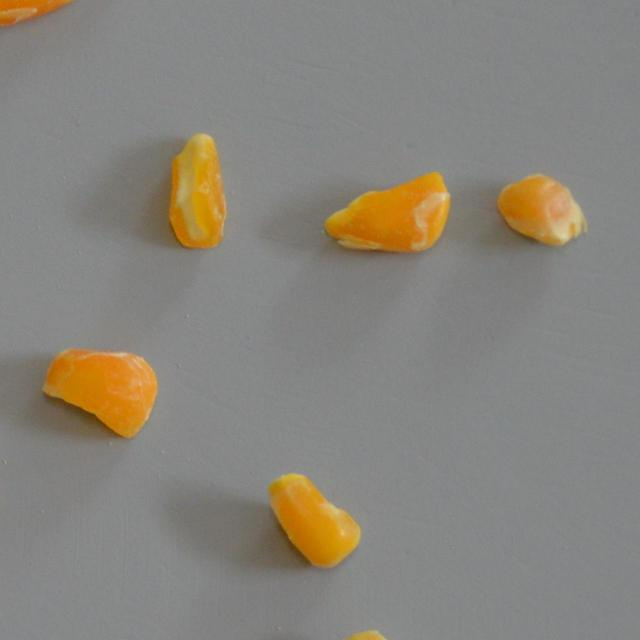pelicula: (485, 154, 611, 268), (37, 330, 164, 443), (324, 156, 450, 269), (266, 468, 364, 570), (163, 130, 229, 248), (0, 0, 82, 32)
